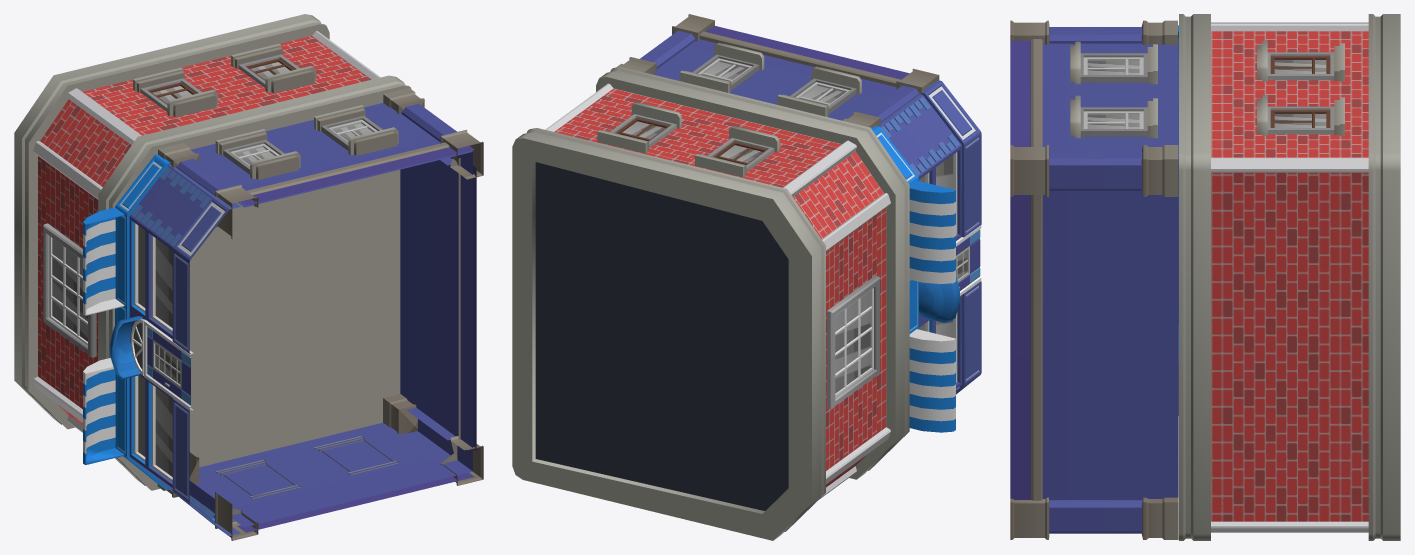
File: Building_3_2_D.glb
The picture shows the model from 3 angles, left to right: view 1: azimuth 30°, elevation 25°; view 2: azimuth 150°, elevation 25°; view 3: azimuth 270°, elevation 25°; orthographic projection. The views are drawn at different scales.
Parts seen in each view (by area): view 1: Building 3_2_D; view 2: Building 3_2_D; view 3: Building 3_2_D.
Boxes of the visible parts, left/top/right/bottom form: Building 3_2_D: left=14, top=14, right=483, bottom=540; Building 3_2_D: left=512, top=14, right=981, bottom=540; Building 3_2_D: left=1010, top=14, right=1400, bottom=540.
Size of the model in its own units: 8.2 by 8.16 by 7.26.
5 materials, 5 textured.
